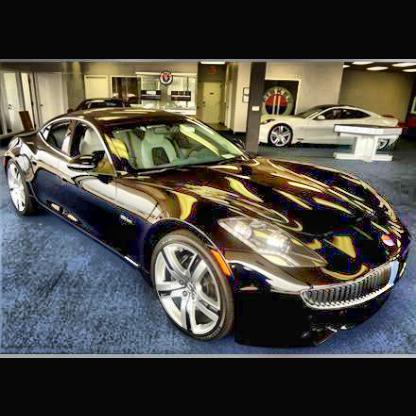Fisker Karma Sedan 2012: (3, 106, 413, 352)
